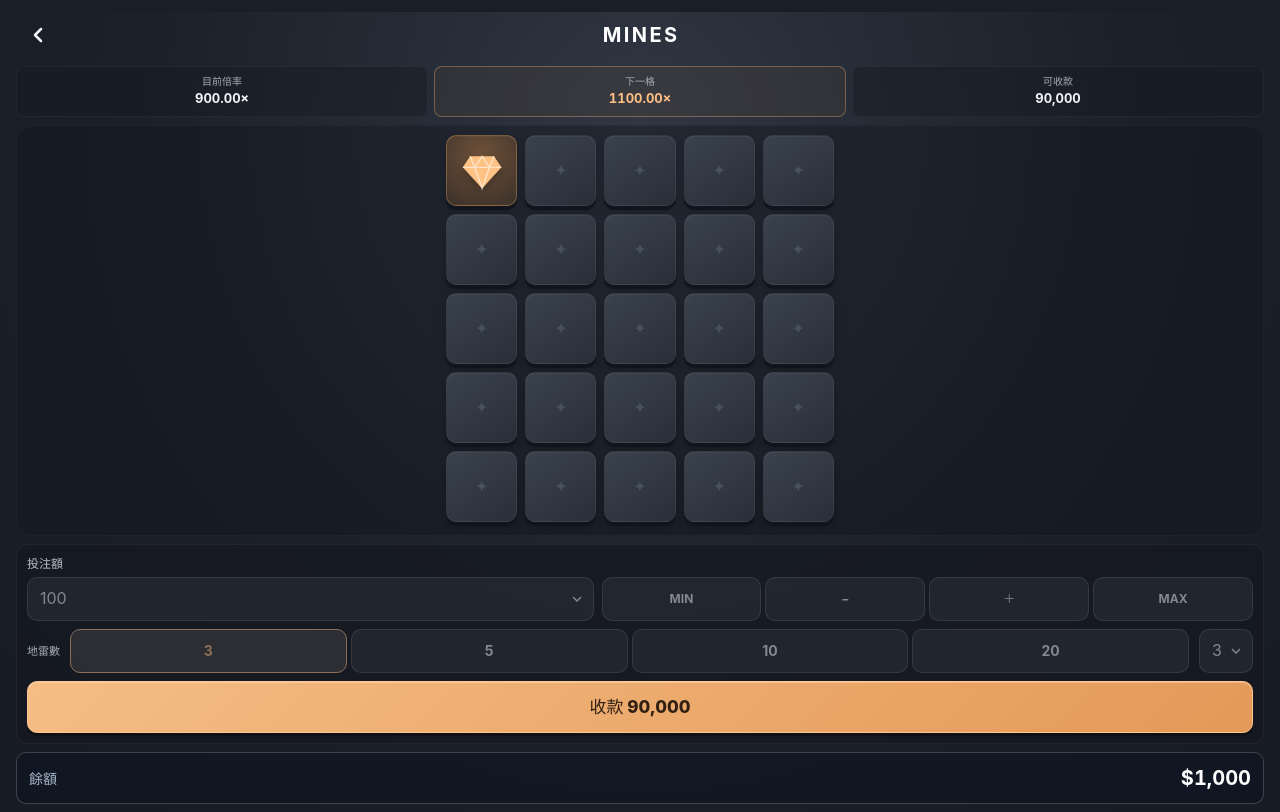
Test: MinesView › uses a plain Mines heading and renders a server-forced mine as a normal loss
Check: the heading "Mines" is shown, box [603,23,680,47]
Click the button named "翻開第 2 格" at (561,170), box [525,134,596,206]
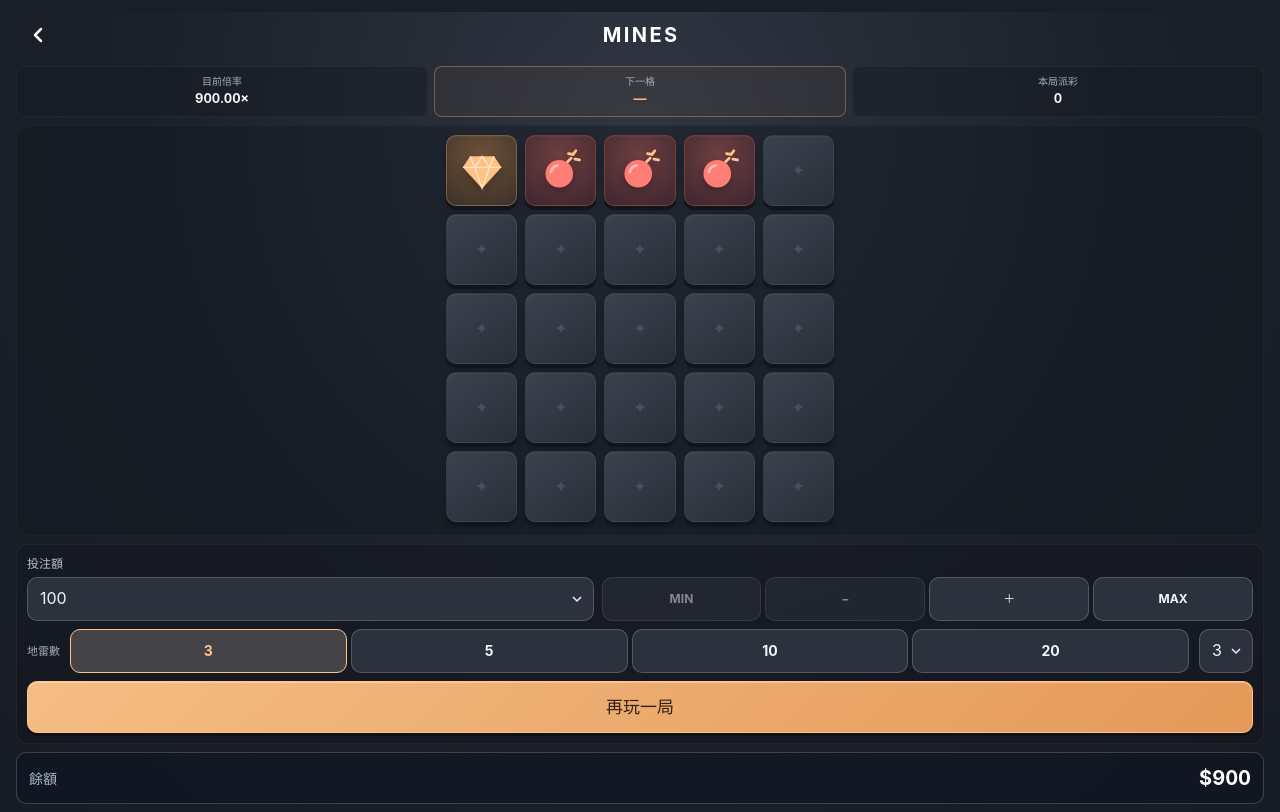
Check: the text "0" is shown, box [1054,90,1062,106]
